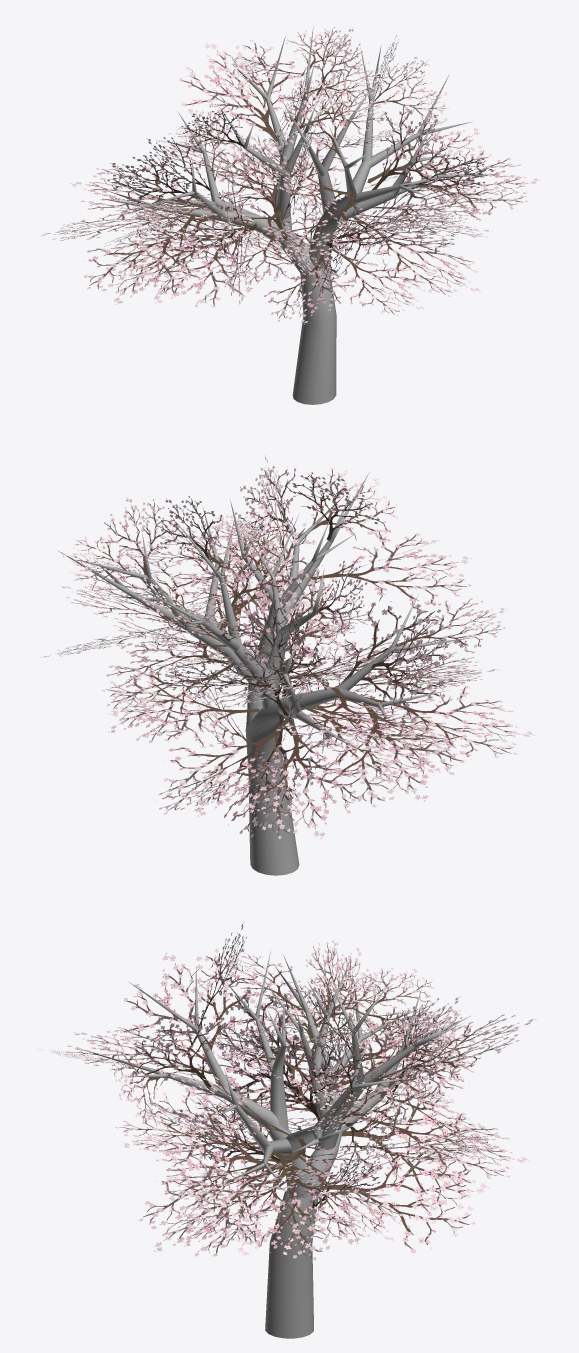
File: Greentree.fbx
The picture shows the model from 3 angles, top to bottom: view 1: azimuth 30°, elevation 25°; view 2: azimuth 150°, elevation 25°; view 3: azimuth 270°, elevation 25°; orthographic projection. The views are drawn at different scales.
Parts seen in each view (by area): view 1: flowers, tree; view 2: flowers, tree; view 3: flowers, tree.
Boxes of the visible parts, left/top/right/bottom form: flowers: left=40, top=27, right=540, bottom=324; tree: left=102, top=25, right=498, bottom=404; flowers: left=43, top=454, right=535, bottom=839; tree: left=58, top=472, right=474, bottom=875; flowers: left=39, top=922, right=536, bottom=1260; tree: left=88, top=952, right=470, bottom=1338.
Size of the model in its own units: 7.8 by 5.99 by 7.44.
